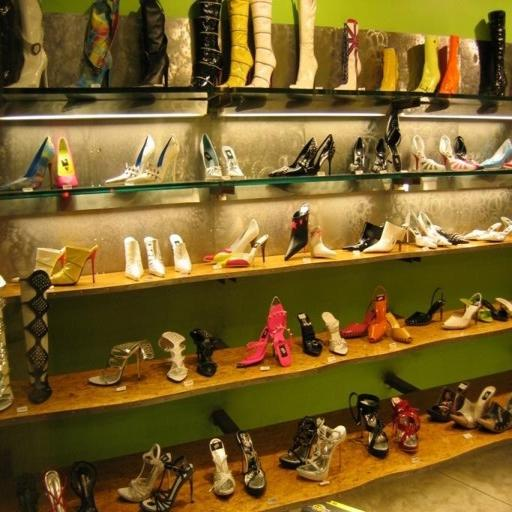boots: (20, 270, 52, 404), (77, 0, 120, 87), (11, 0, 48, 88), (191, 0, 223, 88), (222, 0, 254, 87), (140, 0, 170, 86), (290, 0, 318, 89), (250, 0, 276, 88), (0, 0, 24, 87), (336, 19, 361, 90), (0, 276, 13, 411), (488, 10, 508, 96), (415, 35, 440, 93), (439, 35, 460, 94), (379, 48, 399, 92)
heels: (297, 418, 346, 482), (118, 443, 170, 503), (88, 341, 154, 386), (0, 136, 55, 190), (141, 456, 194, 512), (124, 134, 180, 186), (269, 134, 336, 177), (349, 392, 389, 458), (105, 134, 156, 185), (204, 219, 259, 264), (268, 137, 318, 177), (280, 416, 317, 469), (236, 431, 266, 496), (450, 386, 495, 429), (50, 245, 98, 285), (267, 296, 291, 367), (390, 397, 420, 453), (222, 234, 268, 268), (405, 287, 445, 326), (210, 438, 236, 497), (158, 331, 188, 382), (442, 292, 482, 330), (284, 203, 309, 261), (439, 135, 479, 171), (237, 325, 270, 368), (402, 210, 438, 249), (71, 461, 98, 512), (363, 221, 406, 253), (477, 394, 512, 433), (340, 300, 374, 339), (190, 328, 217, 377), (412, 134, 446, 172), (417, 212, 452, 247), (54, 138, 78, 189), (343, 221, 383, 251), (307, 134, 336, 175), (384, 107, 402, 172), (368, 286, 388, 343), (297, 313, 323, 356), (322, 312, 348, 355), (199, 133, 222, 180), (427, 386, 455, 423), (479, 138, 512, 169), (43, 470, 67, 512), (309, 226, 337, 259), (169, 234, 192, 274), (124, 236, 144, 281), (34, 247, 65, 276), (16, 473, 39, 512), (453, 135, 480, 167), (144, 236, 165, 277), (386, 311, 412, 344), (222, 145, 244, 179), (371, 138, 388, 174), (349, 137, 365, 174)
